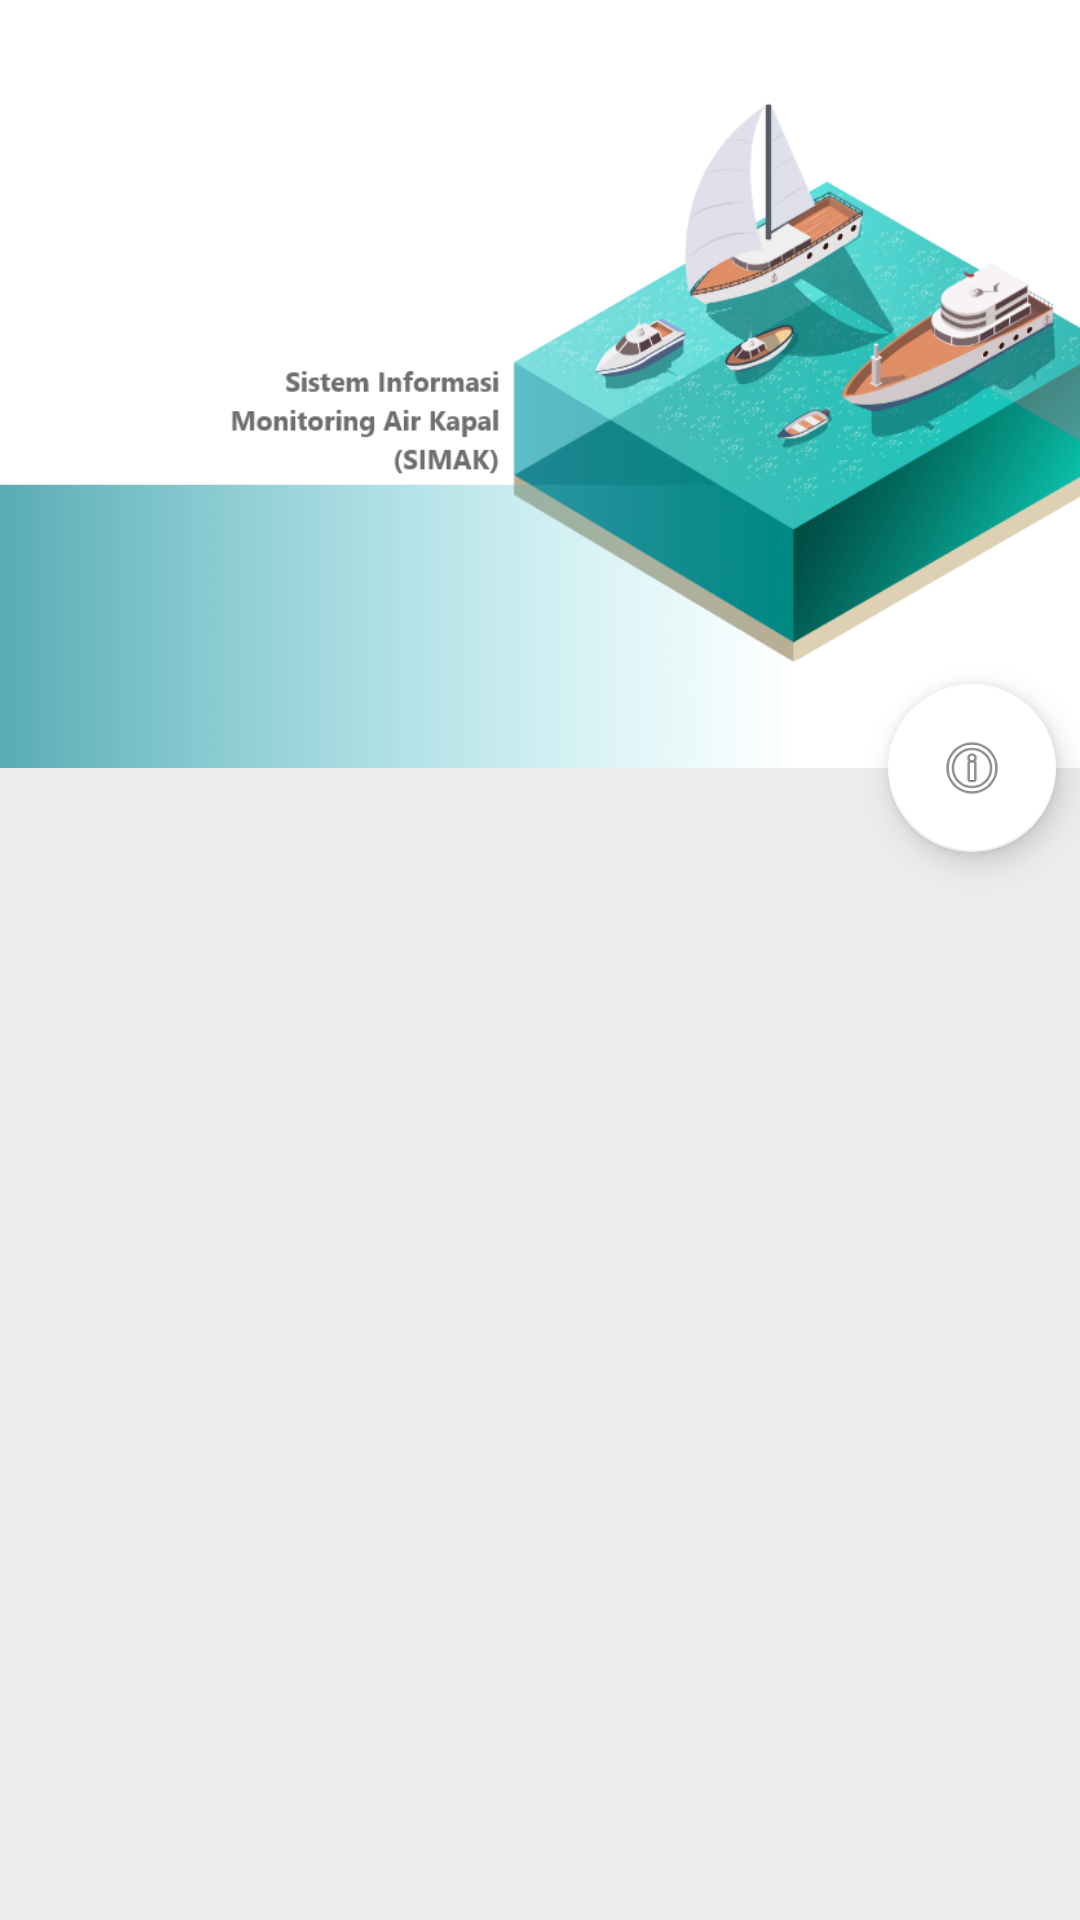

Where to tap for icons on this 1080*1920 app screen, as [x,y]:
info details: [972,793]
